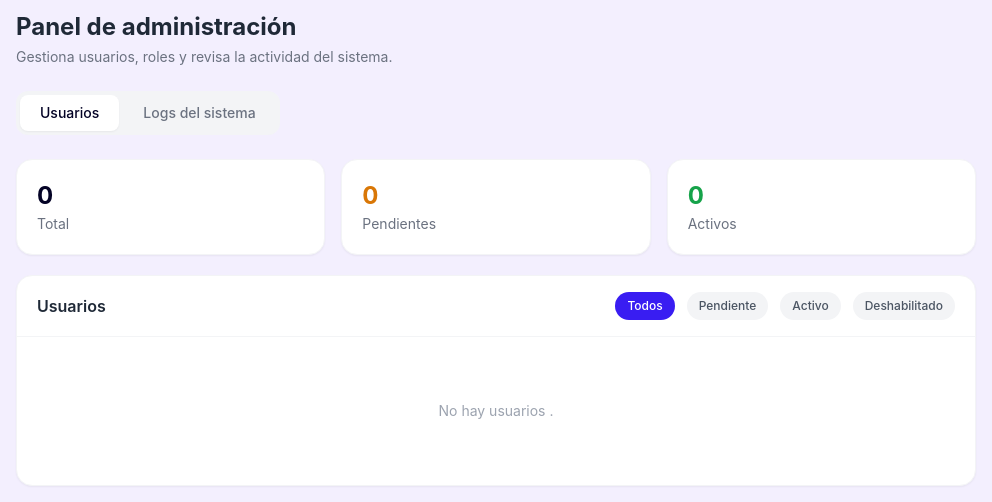
Test: UsersTab › empty state includes filter label when filtering
Expected: the text "No hay usuarios ." is shown, [438, 402, 554, 419]
Click the button "Activo": (810, 306) [780, 292, 841, 320]
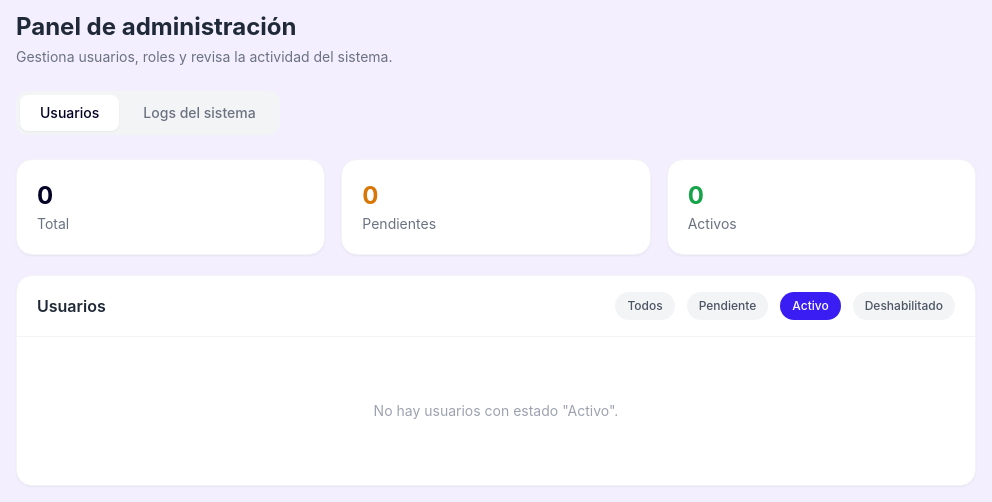
Expected: the text "No hay usuarios con estado \"Activo\"." is shown, [374, 402, 618, 419]
